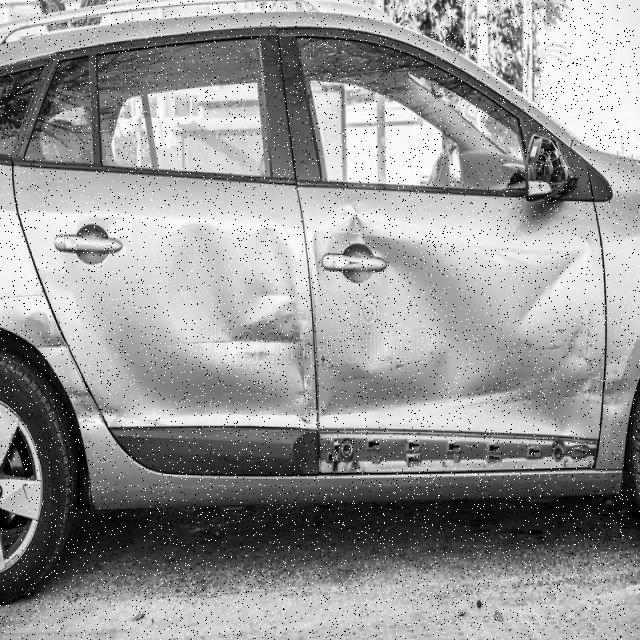doorouter-dent: (316, 188, 596, 437), (81, 178, 310, 432)
quaterpanel-dent: (1, 308, 60, 497)
